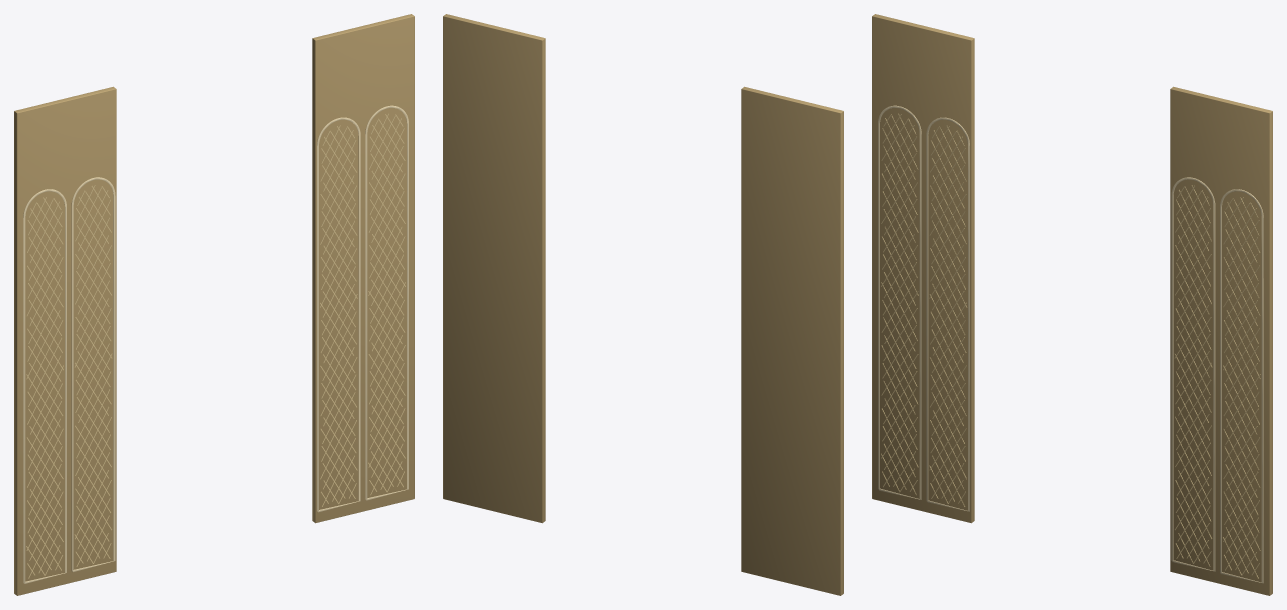
File: landing_door_TM023.glb
3 renders of one model, left to right at view 1: azimuth 30°, elevation 25°; view 2: azimuth 150°, elevation 25°; view 3: azimuth 330°, elevation 25°, orthographic.
Parts seen in each view (by area): view 1: Landing_Door_L, Landing_Door_R; view 2: Landing_Door_L, Landing_Door_R; view 3: Landing_Door_L, Landing_Door_R.
Part boxes in pixels (left/top/right/bottom): Landing_Door_L: left=14, top=86, right=116, bottom=595; Landing_Door_R: left=312, top=14, right=414, bottom=523; Landing_Door_L: left=741, top=86, right=843, bottom=595; Landing_Door_R: left=443, top=14, right=545, bottom=523; Landing_Door_L: left=872, top=14, right=974, bottom=523; Landing_Door_R: left=1170, top=86, right=1272, bottom=595.
Bounding box in the file's own units: 1.81 × 2.1 × 0.027.
